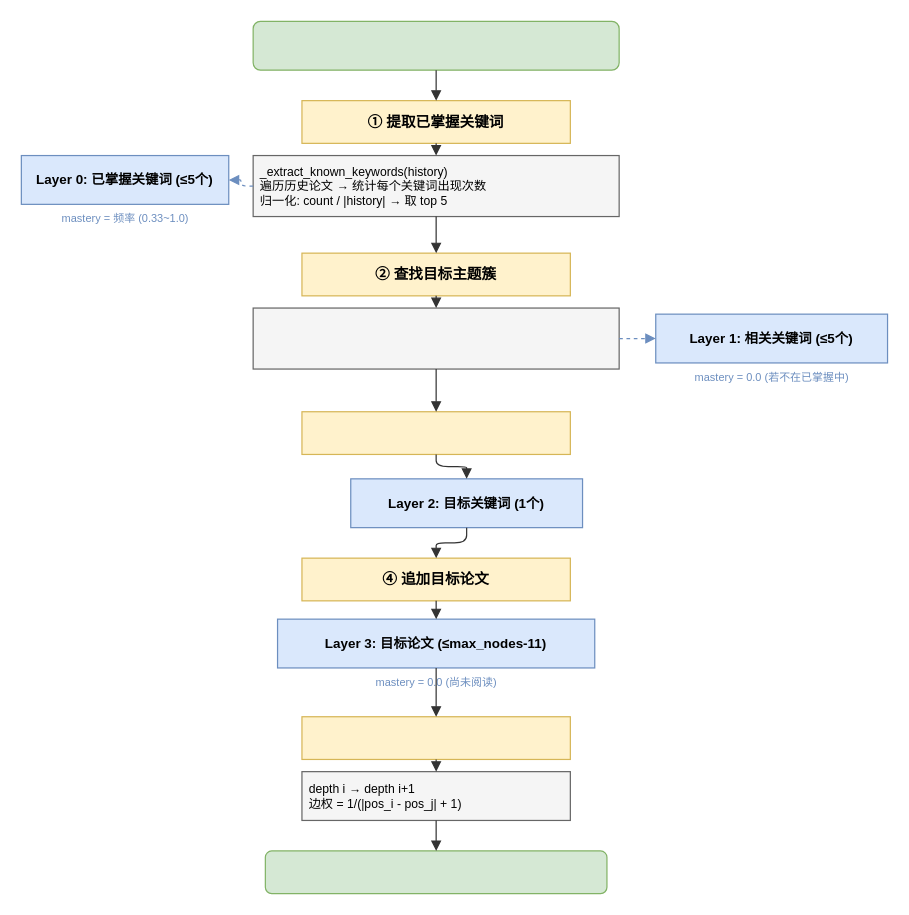
The diagram is 909 pixels wide and 915 high, and some of its shapes have lost their labels. Here are the shapes that lost their labels. From the top down, the centre of each, then its label:
(x=435, y=45): build_path(user_id, history, target_topic)
(x=435, y=338): get_keyword_cluster(target_topic) 在 KG 中统计关键词共现频率 取 top-5 共现词 + top-5 论文
(x=435, y=432): ③ 置入目标关键词
(x=435, y=737): ⑤ 构建有向边
(x=435, y=872): 返回 LearningPath (≤20 nodes)
